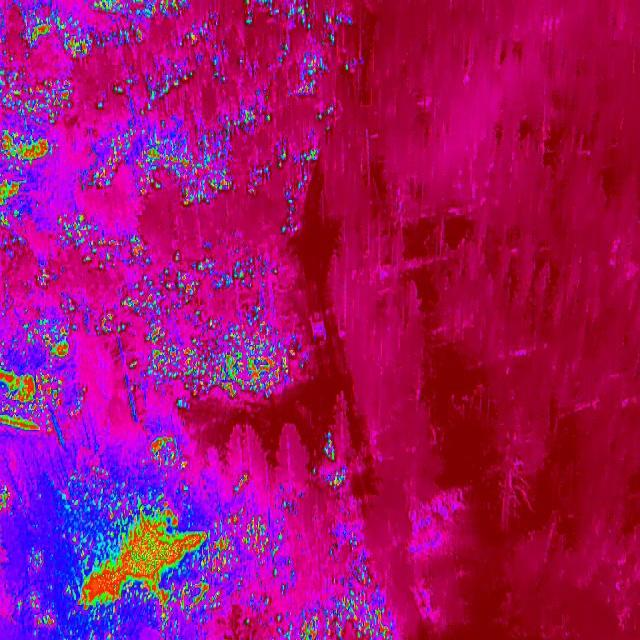fire: (101, 263, 327, 409), (70, 503, 282, 626), (231, 2, 365, 122), (71, 119, 242, 209), (0, 322, 80, 446), (252, 140, 328, 252), (56, 210, 162, 278), (0, 122, 57, 232), (18, 13, 157, 57), (287, 597, 413, 640), (0, 70, 81, 125), (128, 57, 210, 104), (138, 426, 196, 476), (339, 544, 384, 592), (22, 594, 65, 640), (322, 436, 350, 494), (181, 15, 229, 47), (96, 0, 191, 14), (29, 256, 56, 292), (226, 471, 260, 498), (0, 484, 22, 514)
